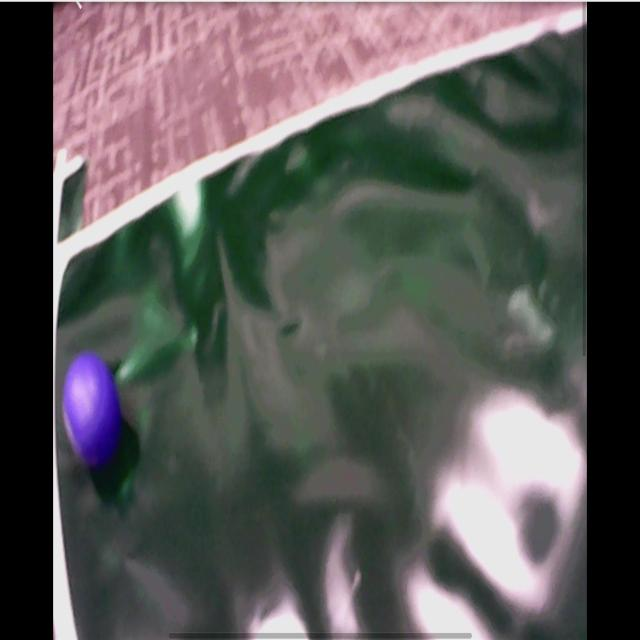ball: (63, 352, 123, 464)
